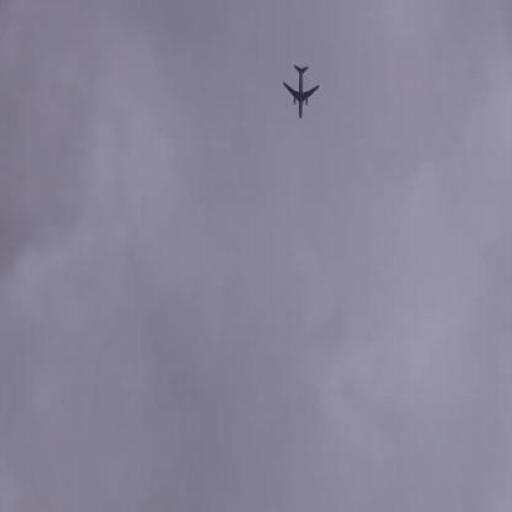aircraft: (279, 56, 319, 120)
